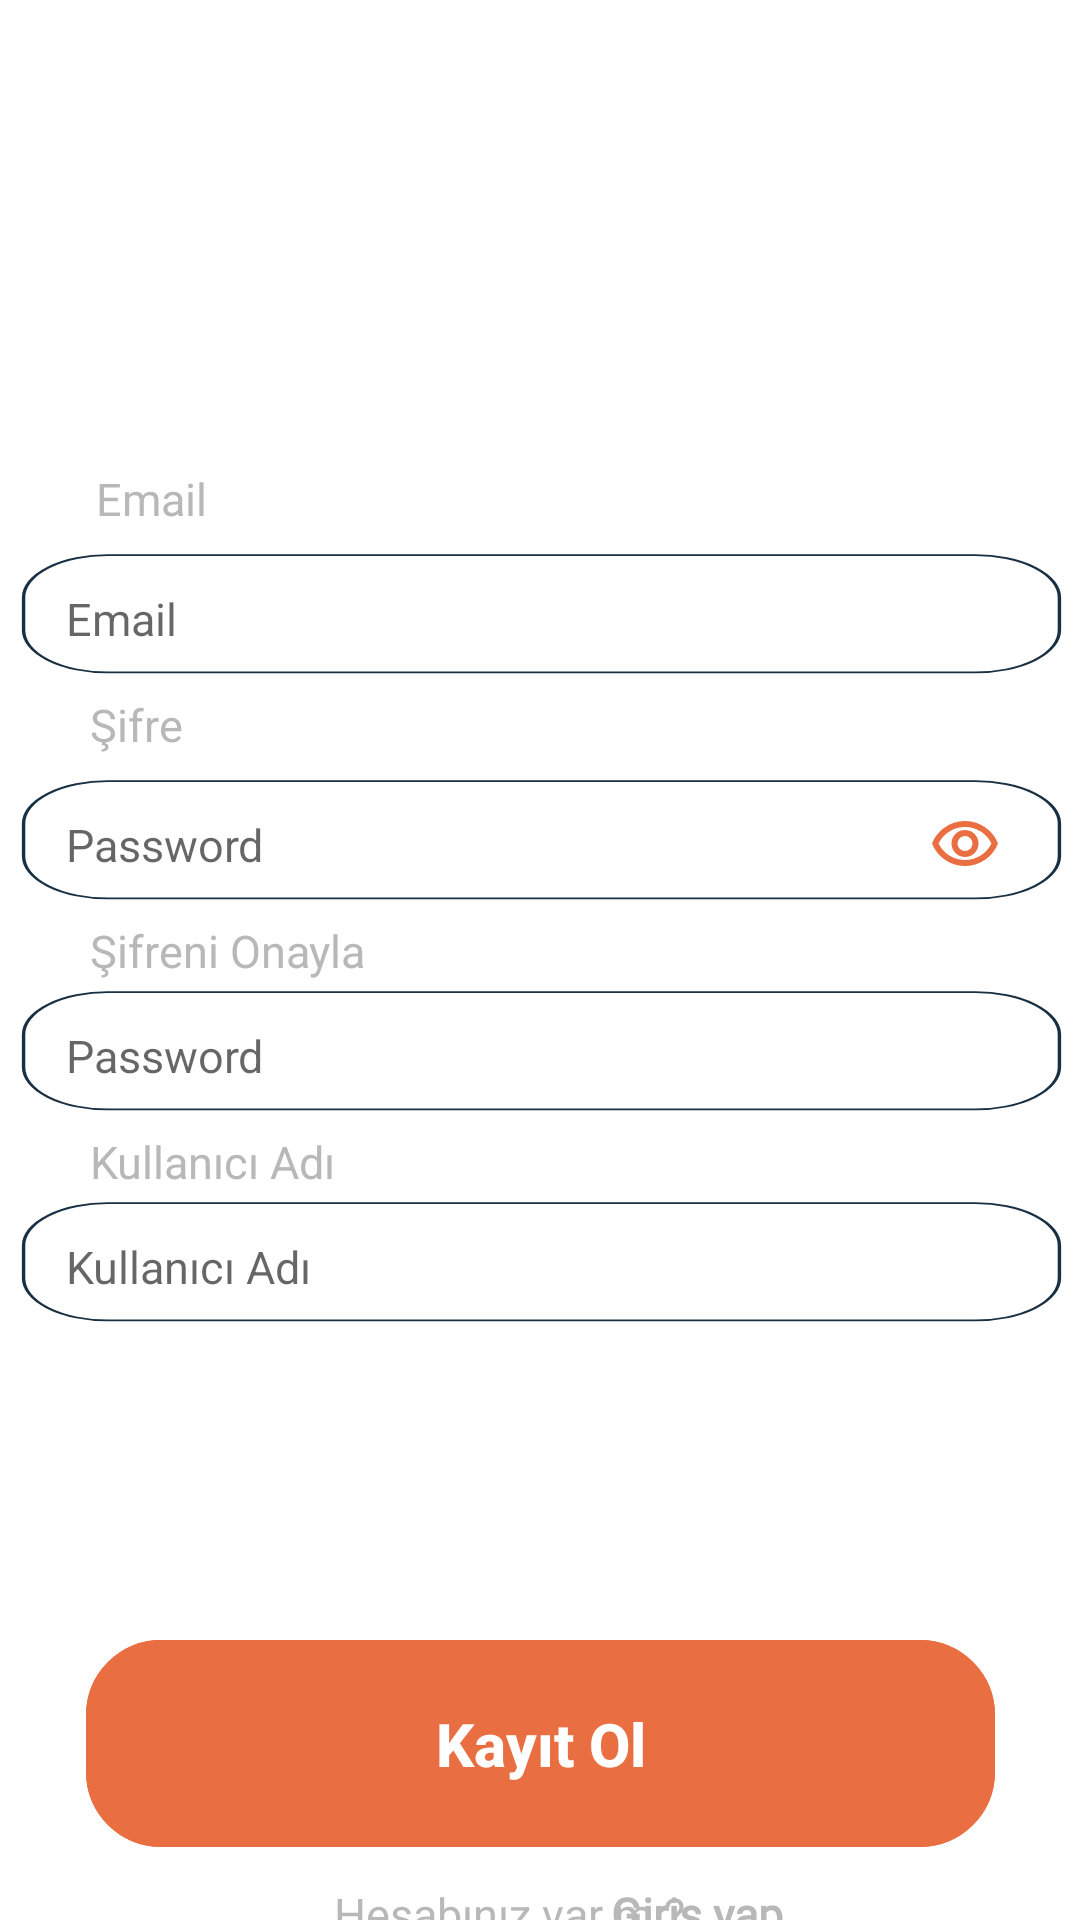

Icons on this 1080w x 1920h Android screen, each with its box as (x1, y1, x2, y2):
visibility: (932, 821, 998, 866)
